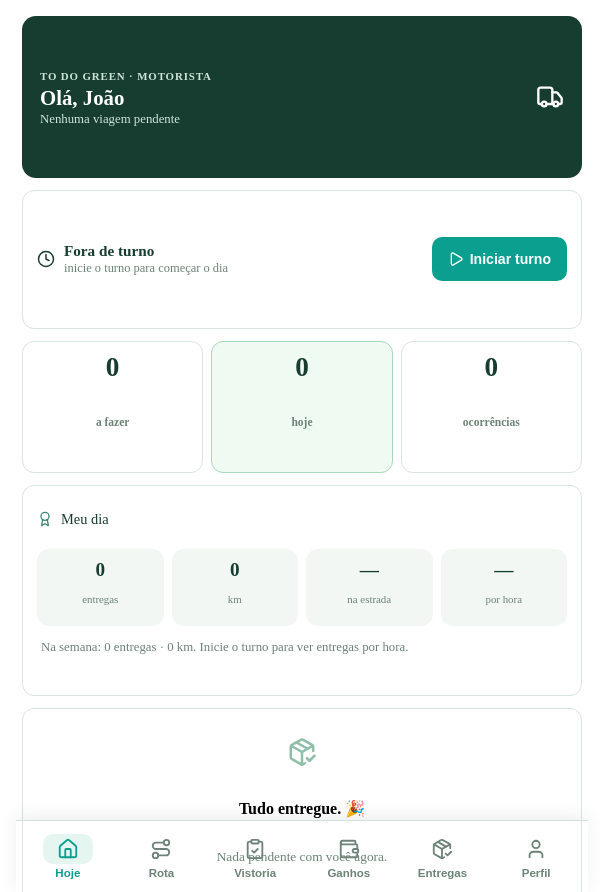
Test: app do motorista — vistoria de pré-viagem › mostra o selo da vistoria de hoje quando já registrada
The image size is (605, 892).
Expected: the heading "Olá, João" is shown, [40, 86, 124, 110]
Click the button "Vistoria" at (255, 856), box [209, 827, 301, 886]
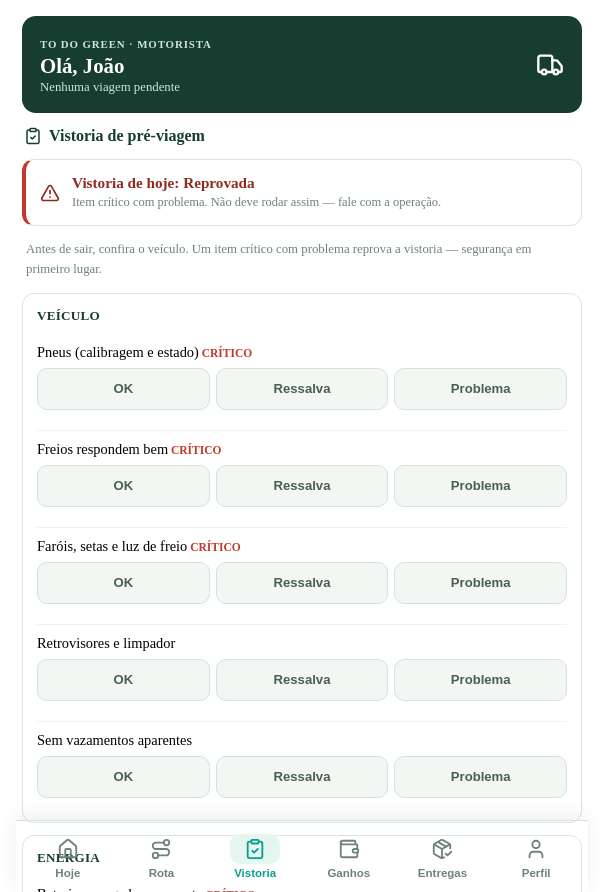
Expected: the text "Vistoria de hoje: Reprovada" is shown, [72, 174, 255, 191]
